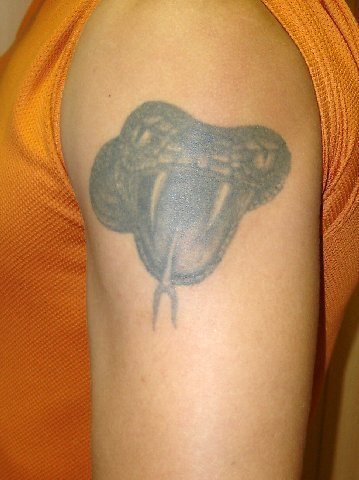tatu7_zmeya: (76, 80, 295, 347)
